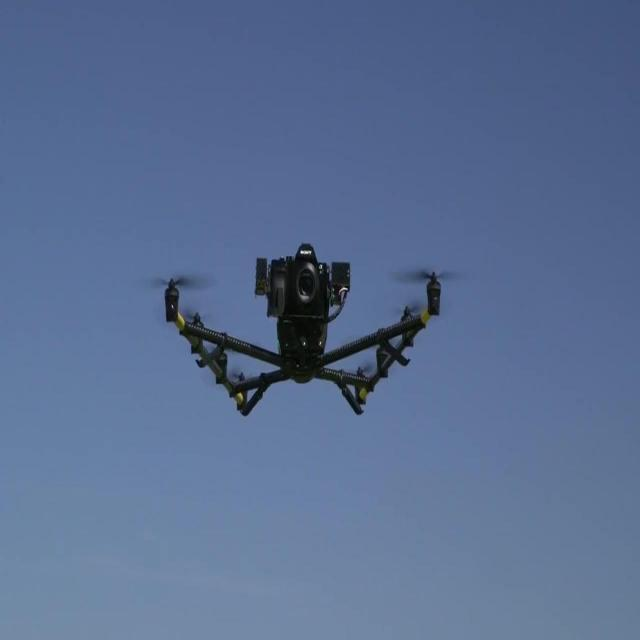UAV: (141, 243, 467, 416)
